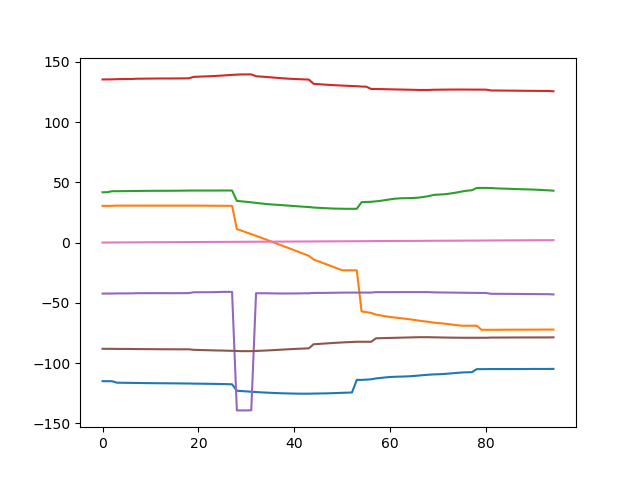Good_Bicep_Curl: (2, 2, 638, 479)
